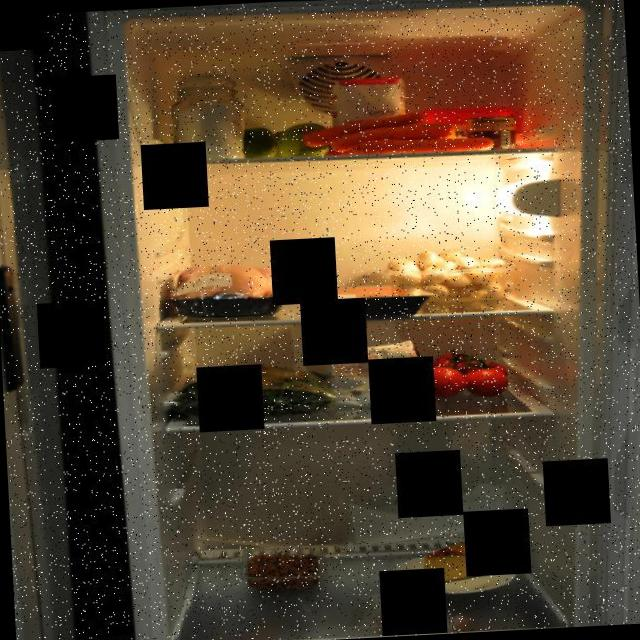Carne pollo: (165, 260, 290, 324)
Carne vacuno: (295, 280, 437, 322)
Champiñones: (380, 244, 512, 305)
Gambas/Langostinos: (240, 550, 324, 593)
Manzana: (234, 116, 332, 162)
Queso: (419, 538, 497, 588)
Tomate: (421, 346, 515, 401)
Zanahoria: (301, 104, 494, 160)
corn: (464, 114, 519, 152)
flour: (316, 336, 426, 414)
spinach: (172, 362, 341, 421)
sugar: (167, 70, 250, 162), (331, 72, 410, 156)
